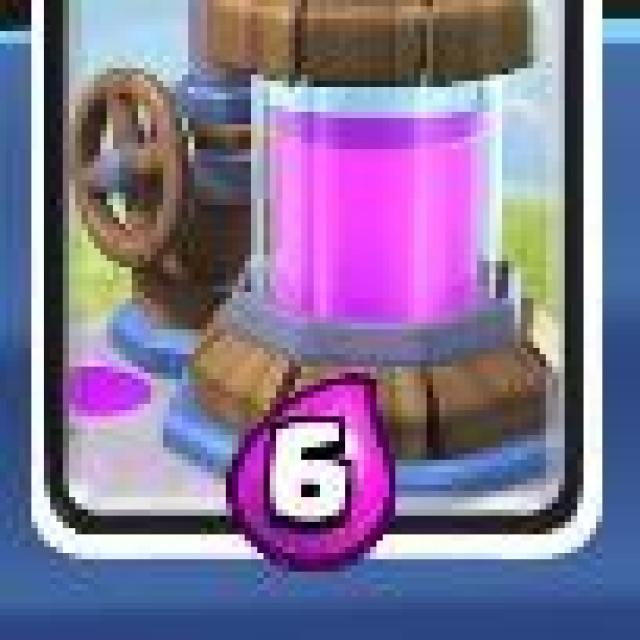Elixir_Pump: (33, 0, 605, 572)
